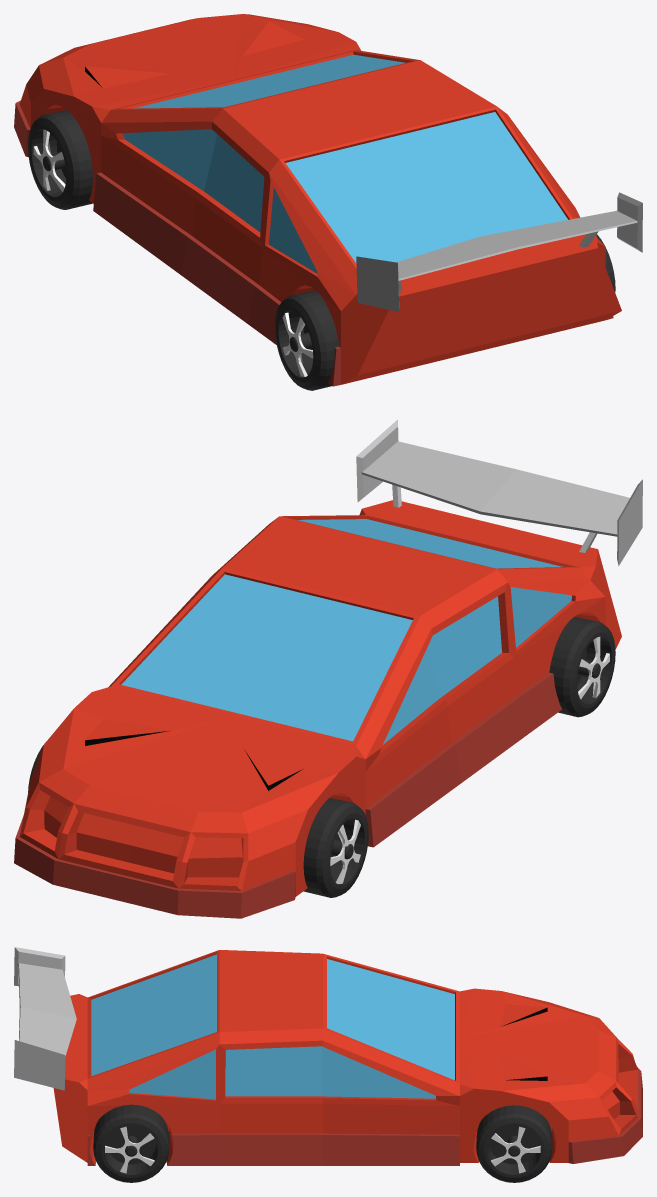
File: supra.fbx
3 views of the same model, one above another, from view 1: azimuth 30°, elevation 25°; view 2: azimuth 150°, elevation 25°; view 3: azimuth 270°, elevation 25° (orthographic). The views are drawn at different scales.
Visible parts, largest first — view 1: Cylinder.001; view 2: Cylinder.001; view 3: Cylinder.001.
Part boxes in pixels (bbox=[...]): Cylinder.001: bbox=[14, 14, 642, 390]; Cylinder.001: bbox=[14, 419, 642, 918]; Cylinder.001: bbox=[14, 947, 642, 1182].
Size of the model in its own units: 231 by 129 by 531.
